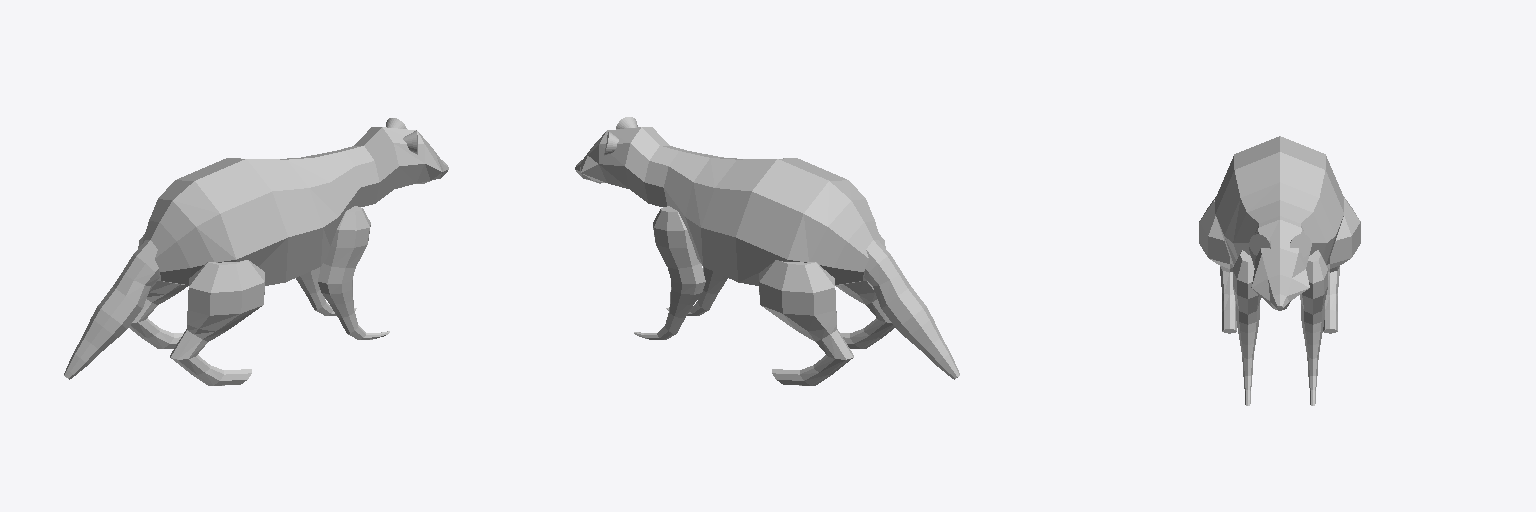
Rendered from raccoon.obj.
3 views of the same model, side by side, from view 1: azimuth 30°, elevation 25°; view 2: azimuth 150°, elevation 25°; view 3: azimuth 270°, elevation 25° (orthographic).
Parts seen in each view (by area): view 1: Body_Cylinder, BackLegR_Cylinder.001, Tail_Cylinder.003, FrontLegR_Cylinder.002, BackLegR.001_Cylinder.005, FrontLegR.001_Cylinder.004; view 2: Body_Cylinder, BackLegR.001_Cylinder.005, Tail_Cylinder.003, FrontLegR.001_Cylinder.004, BackLegR_Cylinder.001, FrontLegR_Cylinder.002; view 3: Body_Cylinder, FrontLegR.001_Cylinder.004, FrontLegR_Cylinder.002, BackLegR_Cylinder.001, BackLegR.001_Cylinder.005.
Part boxes in pixels (bbox=[...]): Body_Cylinder: bbox=[142, 127, 448, 285]; BackLegR_Cylinder.001: bbox=[170, 260, 264, 385]; Tail_Cylinder.003: bbox=[64, 240, 159, 379]; FrontLegR_Cylinder.002: bbox=[318, 206, 389, 339]; BackLegR.001_Cylinder.005: bbox=[129, 234, 188, 348]; FrontLegR.001_Cylinder.004: bbox=[296, 267, 356, 315]; Body_Cylinder: bbox=[575, 127, 881, 285]; BackLegR.001_Cylinder.005: bbox=[759, 260, 853, 385]; Tail_Cylinder.003: bbox=[864, 240, 959, 379]; FrontLegR.001_Cylinder.004: bbox=[634, 206, 705, 339]; BackLegR_Cylinder.001: bbox=[835, 234, 895, 348]; FrontLegR_Cylinder.002: bbox=[666, 267, 727, 315]; Body_Cylinder: bbox=[1215, 136, 1343, 310]; FrontLegR.001_Cylinder.004: bbox=[1300, 250, 1327, 405]; FrontLegR_Cylinder.002: bbox=[1233, 250, 1260, 405]; BackLegR_Cylinder.001: bbox=[1199, 197, 1236, 333]; BackLegR.001_Cylinder.005: bbox=[1323, 197, 1360, 333].
Bounding box in the file's own units: 6.89 × 3.42 × 2.51.